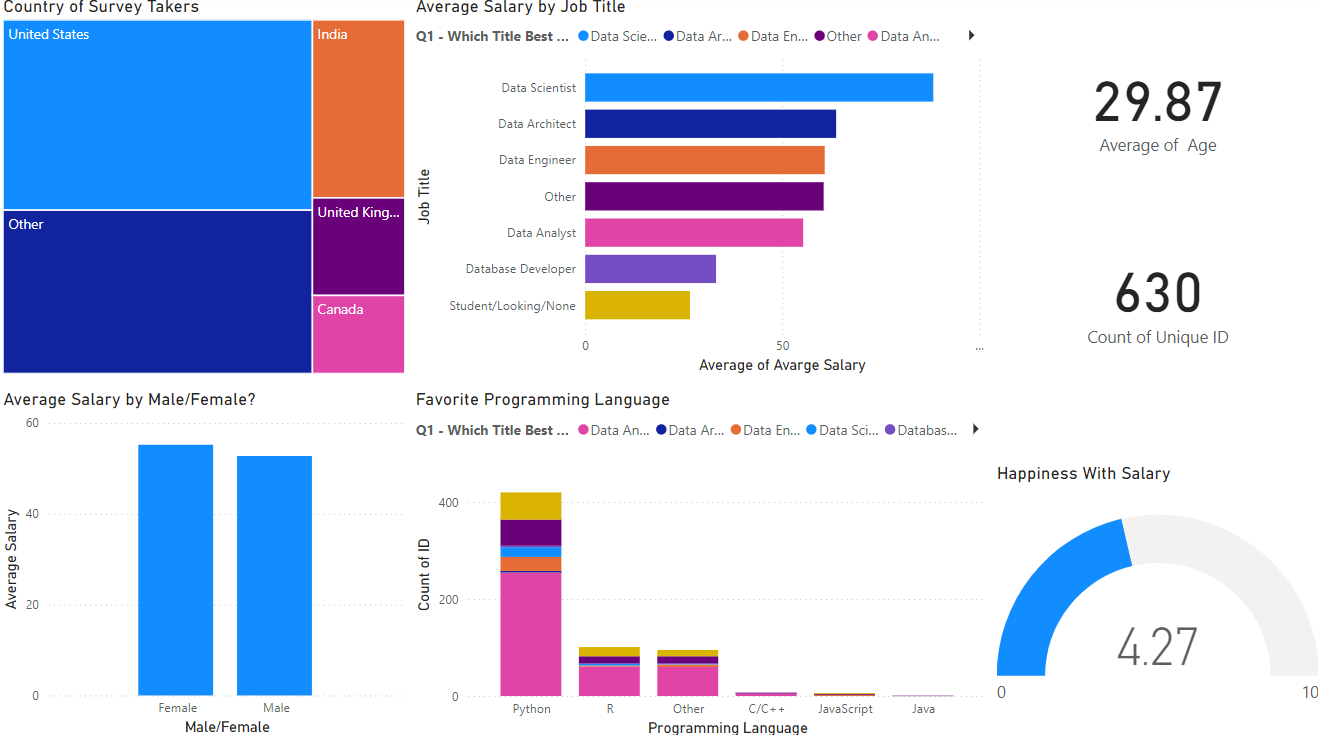

This screenshot's page, from the dashboard's own definition file:
{"tool":"powerbi","page":{"name":"Page 1","canvas":[1280,720],"ordinal":0},"visuals":[{"type":"barChart","title":"Average Salary by Job Title","fields":{"Category":["Data Professional Survey.Q1 - Which Title Best Fits your Current Role?.1.1"],"Y":["Avg(Data Professional Survey.Avarge Salary)"],"Series":["Data Professional Survey.Q1 - Which Title Best Fits your Current Role?.1.1"]},"box":[397.9,0,561.2,370.5],"z":0},{"type":"columnChart","title":"Favorite Programming Language","fields":{"Category":["Data Professional Survey.Q5 - Favorite Programming Language.1.1"],"Y":["CountNonNull(Data Professional Survey.Unique ID)"],"Series":["Data Professional Survey.Q1 - Which Title Best Fits your Current Role?.1.1"]},"box":[397.9,380.1,561.2,340.3],"z":1000},{"type":"gauge","title":"Happiness With Salary","fields":{"Y":["Avg(Data Professional Survey.Q6 - How Happy are you in your Current Position with the following? (Salary))"],"MinValue":["Min(Data Professional Survey.Q6 - How Happy are you in your Current Position with the following? (Salary))"],"MaxValue":["Max(Data Professional Survey.Q6 - How Happy are you in your Current Position with the following? (Salary))1"]},"box":[959.2,451.5,321.1,269],"z":2000},{"type":"card","fields":{"Values":["Avg(Data Professional Survey.Q10 - Current Age)"]},"box":[959.2,0,321.1,212.7],"z":3000},{"type":"treemap","title":"Country of Survey Takers","fields":{"Values":["CountNonNull(Data Professional Survey.Q11 - Which Country do you live in?.1)"],"Group":["Data Professional Survey.Q11 - Which Country do you live in?.1"]},"box":[0,0,397.9,370.5],"z":4000},{"type":"columnChart","title":"Average  Salary by Male/Female?","fields":{"Category":["Data Professional Survey.Q9 - Male/Female?"],"Y":["Avg(Data Professional Survey.Avarge Salary)"]},"box":[0,380,398,340],"z":5000},{"type":"card","fields":{"Values":["CountNonNull(Data Professional Survey.Unique ID)"]},"box":[959.2,212.7,321.1,157.8],"z":6000}]}

Visuals, with their boxes in screenshot pixels (x1, y1, x2, y2), scaled from the page's 1280x720 canvas onto the 1322x737 screenshot:
"Average Salary by Job Title" barChart: [left=411, top=0, right=991, bottom=379]
"Favorite Programming Language" columnChart: [left=411, top=389, right=991, bottom=736]
"Happiness With Salary" gauge: [left=991, top=462, right=1321, bottom=736]
card - Avg(Data Professional Survey.Q10 - Current Age): [left=991, top=0, right=1321, bottom=218]
"Country of Survey Takers" treemap: [left=0, top=0, right=411, bottom=379]
"Average  Salary by Male/Female?" columnChart: [left=0, top=389, right=411, bottom=736]
card - CountNonNull(Data Professional Survey.Unique ID): [left=991, top=218, right=1321, bottom=379]
